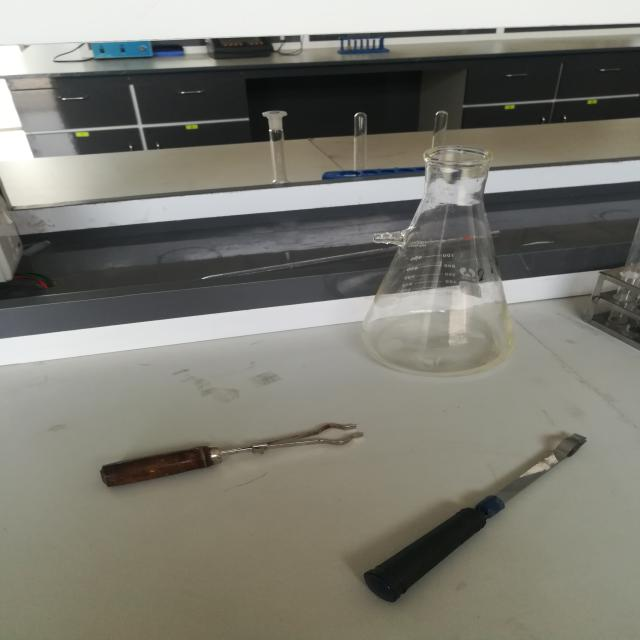Conical_Flask: (334, 120, 543, 392)
TestTube_Holder: (337, 415, 622, 618), (65, 402, 420, 506)
